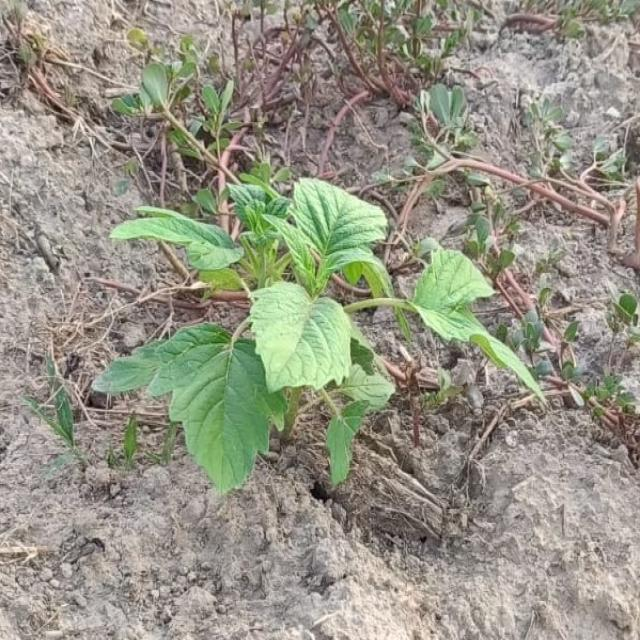plant: (94, 179, 542, 493)
